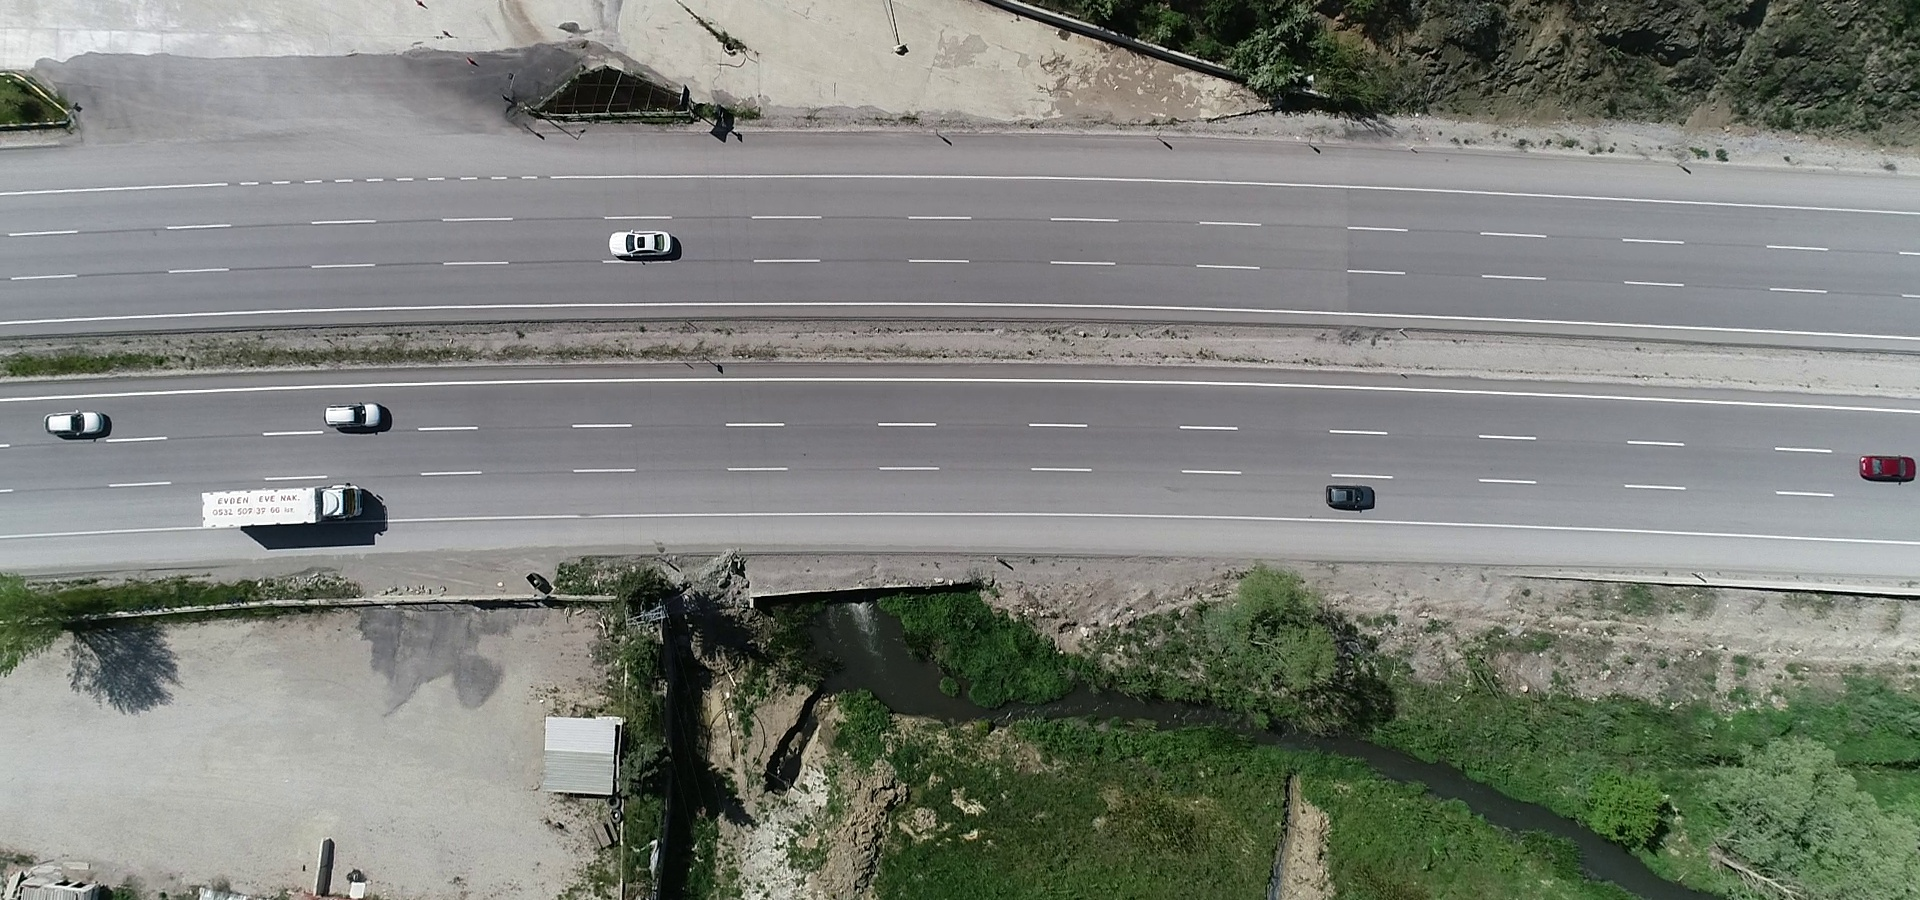araba: (607, 224, 684, 267), (317, 399, 400, 435), (1858, 447, 1920, 492), (36, 410, 116, 442), (1322, 476, 1393, 509)
kamyon: (198, 476, 382, 538)
